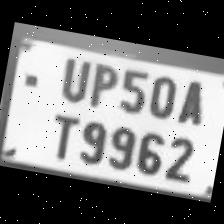0: (142, 68, 180, 120)
2: (160, 128, 200, 183)
5: (112, 62, 151, 116)
6: (131, 125, 167, 177)
9: (72, 113, 110, 167), (102, 118, 138, 172)
A: (172, 72, 211, 128)
P: (82, 56, 122, 110)
T: (40, 106, 80, 162)
U: (52, 49, 94, 104)
